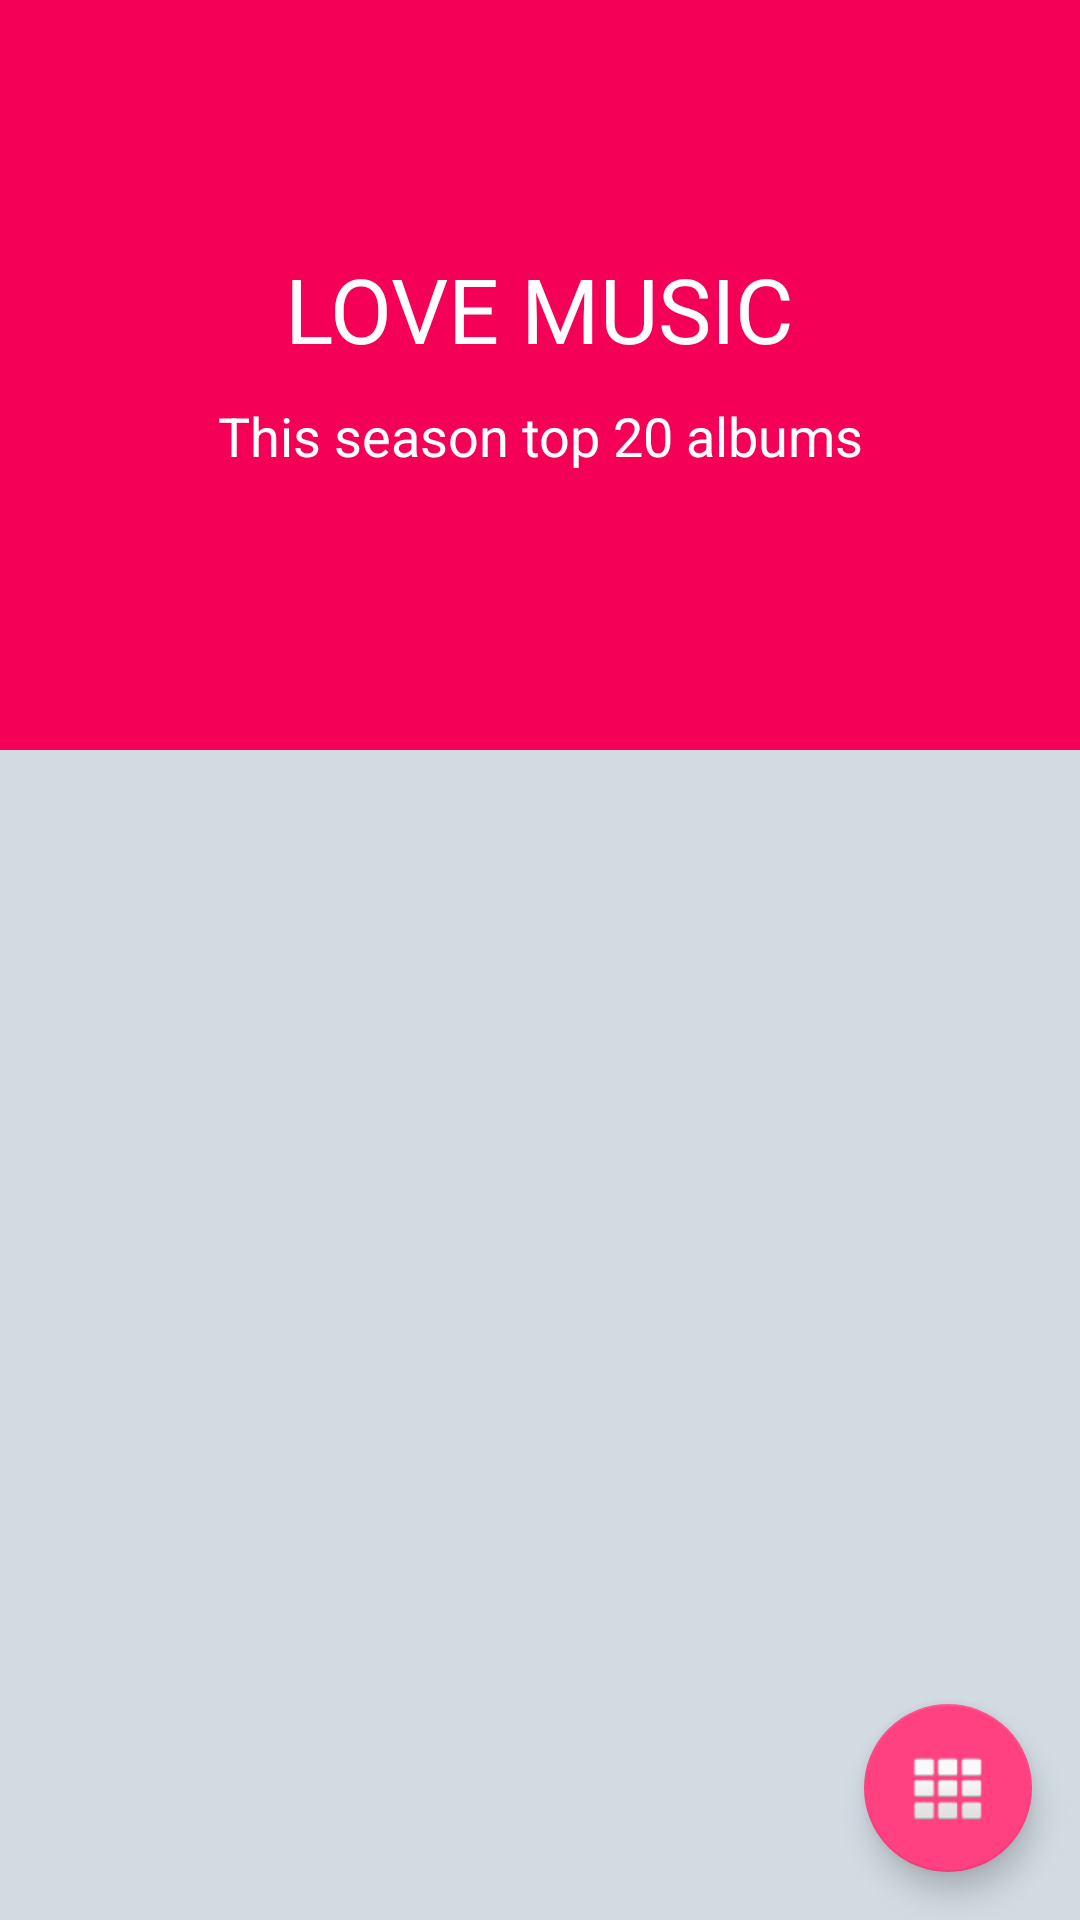

Icon click points for this 1080 x 1920 phone screenshot, format (x,y):
dialer: (948,1788)
